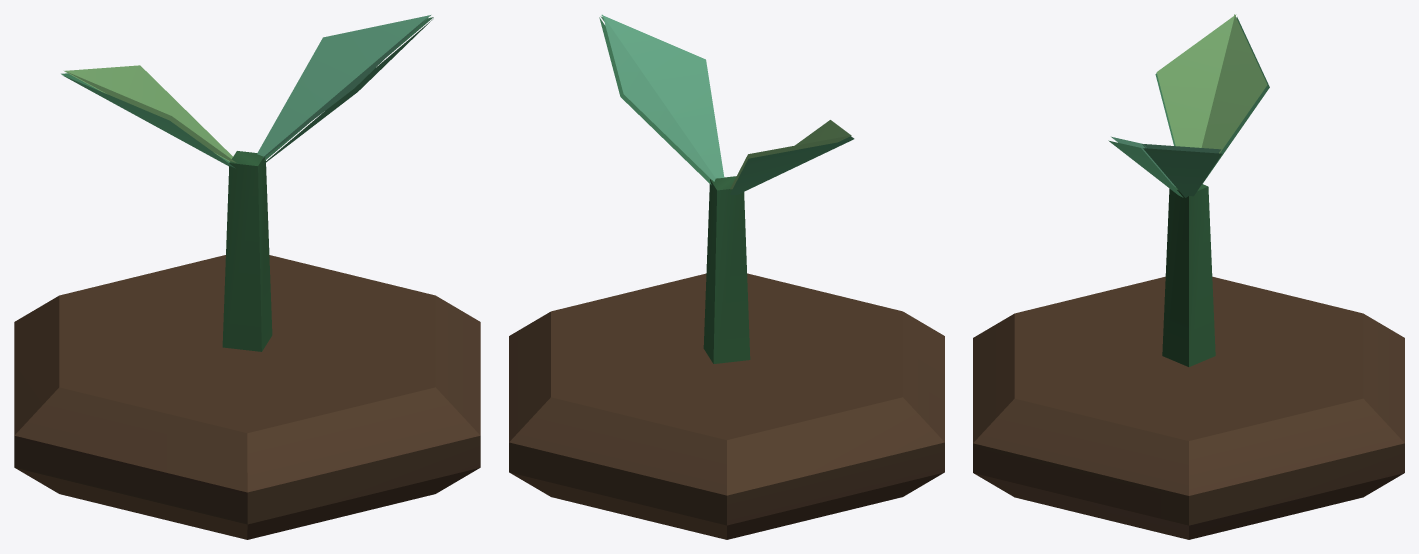
The model's file is custom-muda-etapa-1.glb.
3 views of the same model, side by side, from view 1: azimuth 30°, elevation 25°; view 2: azimuth 150°, elevation 25°; view 3: azimuth 270°, elevation 25° (orthographic). The views are drawn at different scales.
Visible parts, largest first — view 1: muda-etapa-1; view 2: muda-etapa-1; view 3: muda-etapa-1.
Boxes of the visible parts, <box> form: muda-etapa-1: <box>14,15,480,539</box>; muda-etapa-1: <box>509,14,944,539</box>; muda-etapa-1: <box>973,14,1404,539</box>.
Bounding box in the file's own units: 0.64 × 0.5422 × 0.5543.
